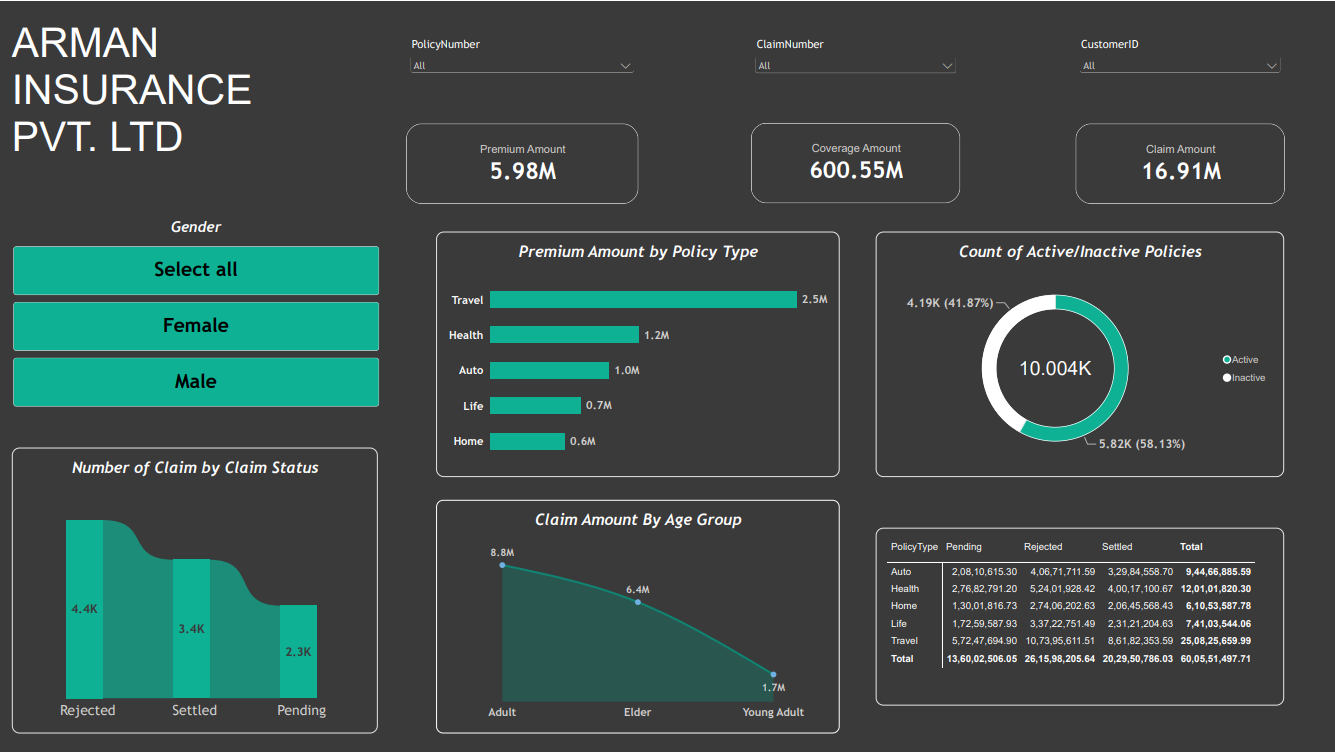

The dashboard page shown, as its layout file describes it:
{"tool":"powerbi","page":{"name":"Page 1","canvas":[1920,1080],"ordinal":0},"visuals":[{"type":"slicer","fields":{"Values":["InsuranceData.PolicyNumber"]},"box":[584.6,51.5,333.3,73.3],"z":0},{"type":"slicer","fields":{"Values":["InsuranceData.CustomerID"]},"box":[1545.8,51.5,300,73.3],"z":1000},{"type":"slicer","fields":{"Values":["InsuranceData.ClaimNumber"]},"box":[1079.7,52.3,300,73.3],"z":2000},{"type":"textbox","box":[43.6,34.9,415.1,233.7],"z":3000},{"type":"cardVisual","fields":{"Data":["Sum(InsuranceData.PremiumAmount)"]},"box":[585,175,333.3,115],"z":4000},{"type":"cardVisual","fields":{"Data":["Sum(InsuranceData.CoverageAmount)"]},"box":[1079.7,174.4,300,115],"z":5000},{"type":"cardVisual","fields":{"Data":["Sum(InsuranceData.ClaimAmount)"]},"box":[1545.8,175,300,115],"z":6000},{"type":"advancedSlicerVisual","fields":{"Values":["InsuranceData.Gender"]},"box":[20.9,310.5,525,284.3],"z":7000},{"type":"ribbonChart","title":"Number of Claim by Claim Status","fields":{"Category":["InsuranceData.ClaimStatus"],"Y":["CountNonNull(InsuranceData.ClaimStatus)"]},"box":[19.2,640.1,525,409.9],"z":8000},{"type":"barChart","title":"Premium Amount by Policy Type","fields":{"Category":["InsuranceData.PolicyType"],"Y":["Sum(InsuranceData.PremiumAmount)"]},"box":[627.9,329.7,579.1,352.3],"z":9000},{"type":"lineChart","title":"Claim Amount By Age Group","fields":{"Category":["InsuranceData.Age Group"],"Y":["Sum(InsuranceData.ClaimAmount)"]},"box":[627.9,715.1,579.1,334.9],"z":10000},{"type":"donutChart","title":"Count of Active/Inactive Policies","fields":{"Category":["InsuranceData.Active/Inactive"],"Y":["CountNonNull(InsuranceData.Active/Inactive)"]},"box":[1259.3,329.7,586,352.3],"z":11000},{"type":"pivotTable","fields":{"Values":["Sum(InsuranceData.CoverageAmount)"],"Rows":["InsuranceData.PolicyType"],"Columns":["InsuranceData.ClaimStatus"]},"box":[1259.3,755.2,586,254.7],"z":12000}]}

Visuals, with their boxes in screenshot pixels (x1, y1, x2, y2), scaled from the page's 1920x1080 canvas onto the 1335x752 screenshot:
slicer - InsuranceData.PolicyNumber: bbox=[406, 36, 638, 87]
slicer - InsuranceData.CustomerID: bbox=[1075, 36, 1283, 87]
slicer - InsuranceData.ClaimNumber: bbox=[751, 36, 959, 87]
textbox: bbox=[30, 24, 319, 187]
cardVisual - Sum(InsuranceData.PremiumAmount): bbox=[407, 122, 639, 202]
cardVisual - Sum(InsuranceData.CoverageAmount): bbox=[751, 121, 959, 202]
cardVisual - Sum(InsuranceData.ClaimAmount): bbox=[1075, 122, 1283, 202]
advancedSlicerVisual - InsuranceData.Gender: bbox=[15, 216, 380, 414]
"Number of Claim by Claim Status" ribbonChart: bbox=[13, 446, 378, 731]
"Premium Amount by Policy Type" barChart: bbox=[437, 230, 839, 475]
"Claim Amount By Age Group" lineChart: bbox=[437, 498, 839, 731]
"Count of Active/Inactive Policies" donutChart: bbox=[876, 230, 1283, 475]
pivotTable - Sum(InsuranceData.CoverageAmount) x InsuranceData.PolicyType: bbox=[876, 526, 1283, 703]
